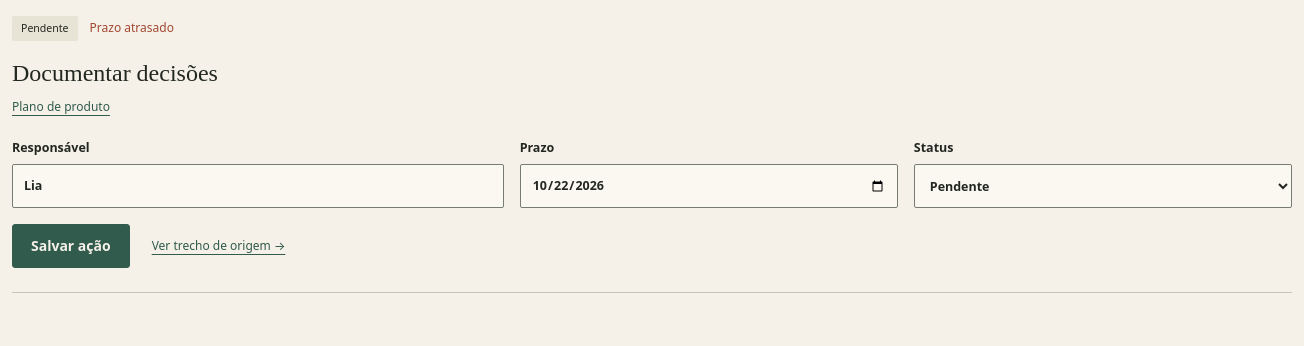
Test: formulários e navegação › mantém o status salvo ao editar e atualiza o atraso com a resposta do servidor
Select "Em andamento" in the dropdown labelled "Status" at (1103, 186), box top-left (914, 164), bottom-right (1292, 208)
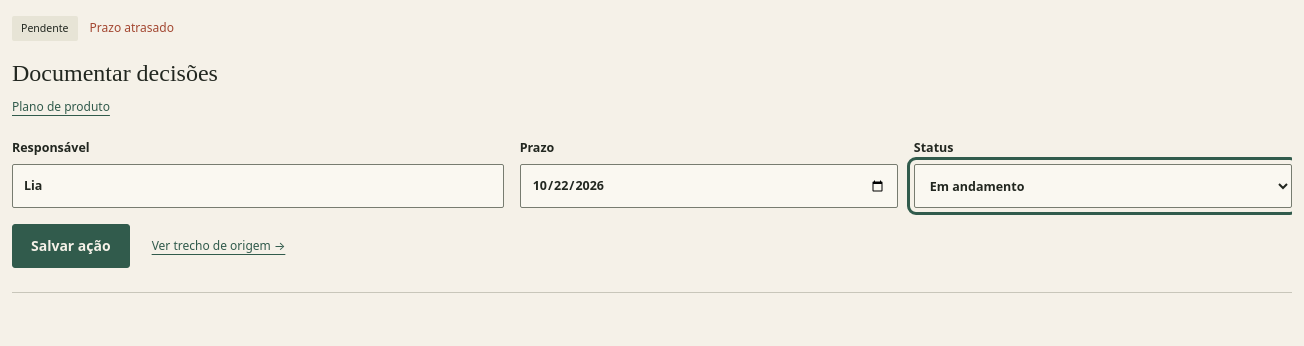
expect the text with class "badge" reads "Pendente": met, box top-left (21, 21), bottom-right (69, 35)
expect the text "Prazo atrasado" is shown: met, box top-left (90, 19), bottom-right (174, 38)
Type "2027-01-10" into the date field labelled "Prazo" at (709, 186), box top-left (520, 164), bottom-right (898, 208)
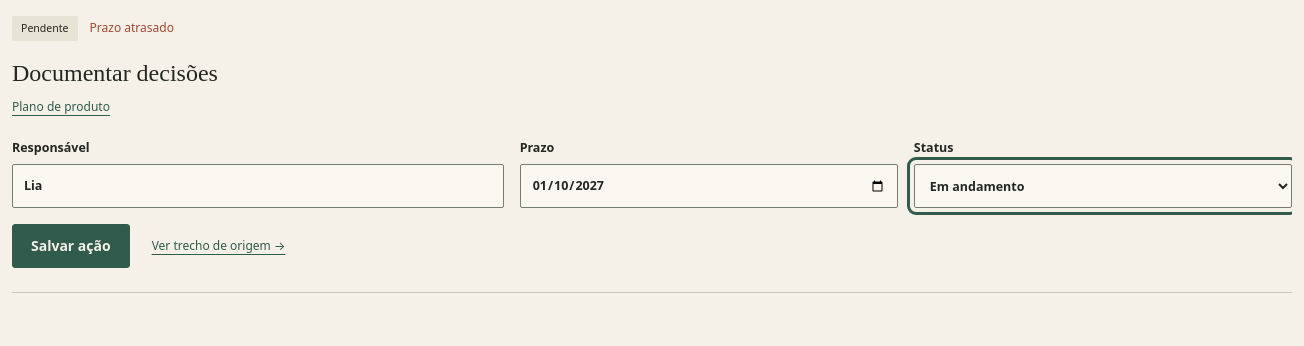
Click the button "Salvar ação" at (71, 246), box top-left (12, 224), bottom-right (130, 268)
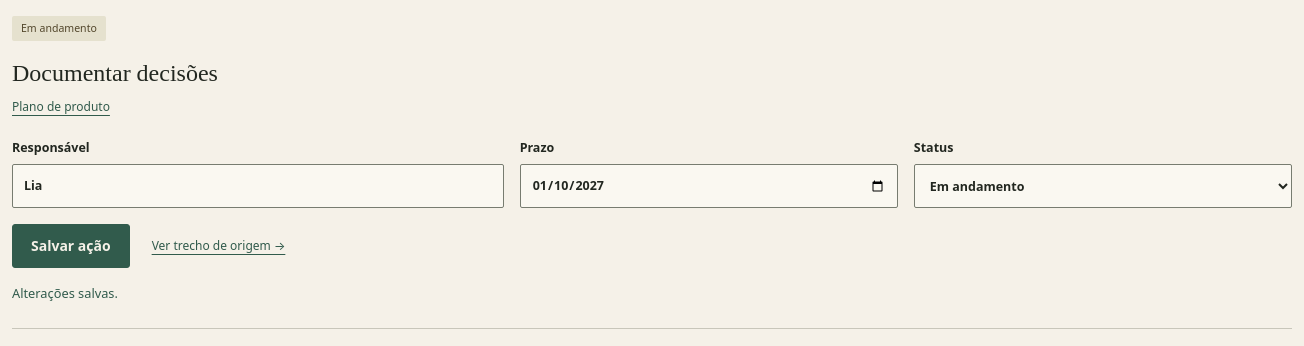
expect the text with class "badge" reads "Em andamento": met, box top-left (21, 21), bottom-right (97, 35)
expect the text "Prazo atrasado" is gone: met
